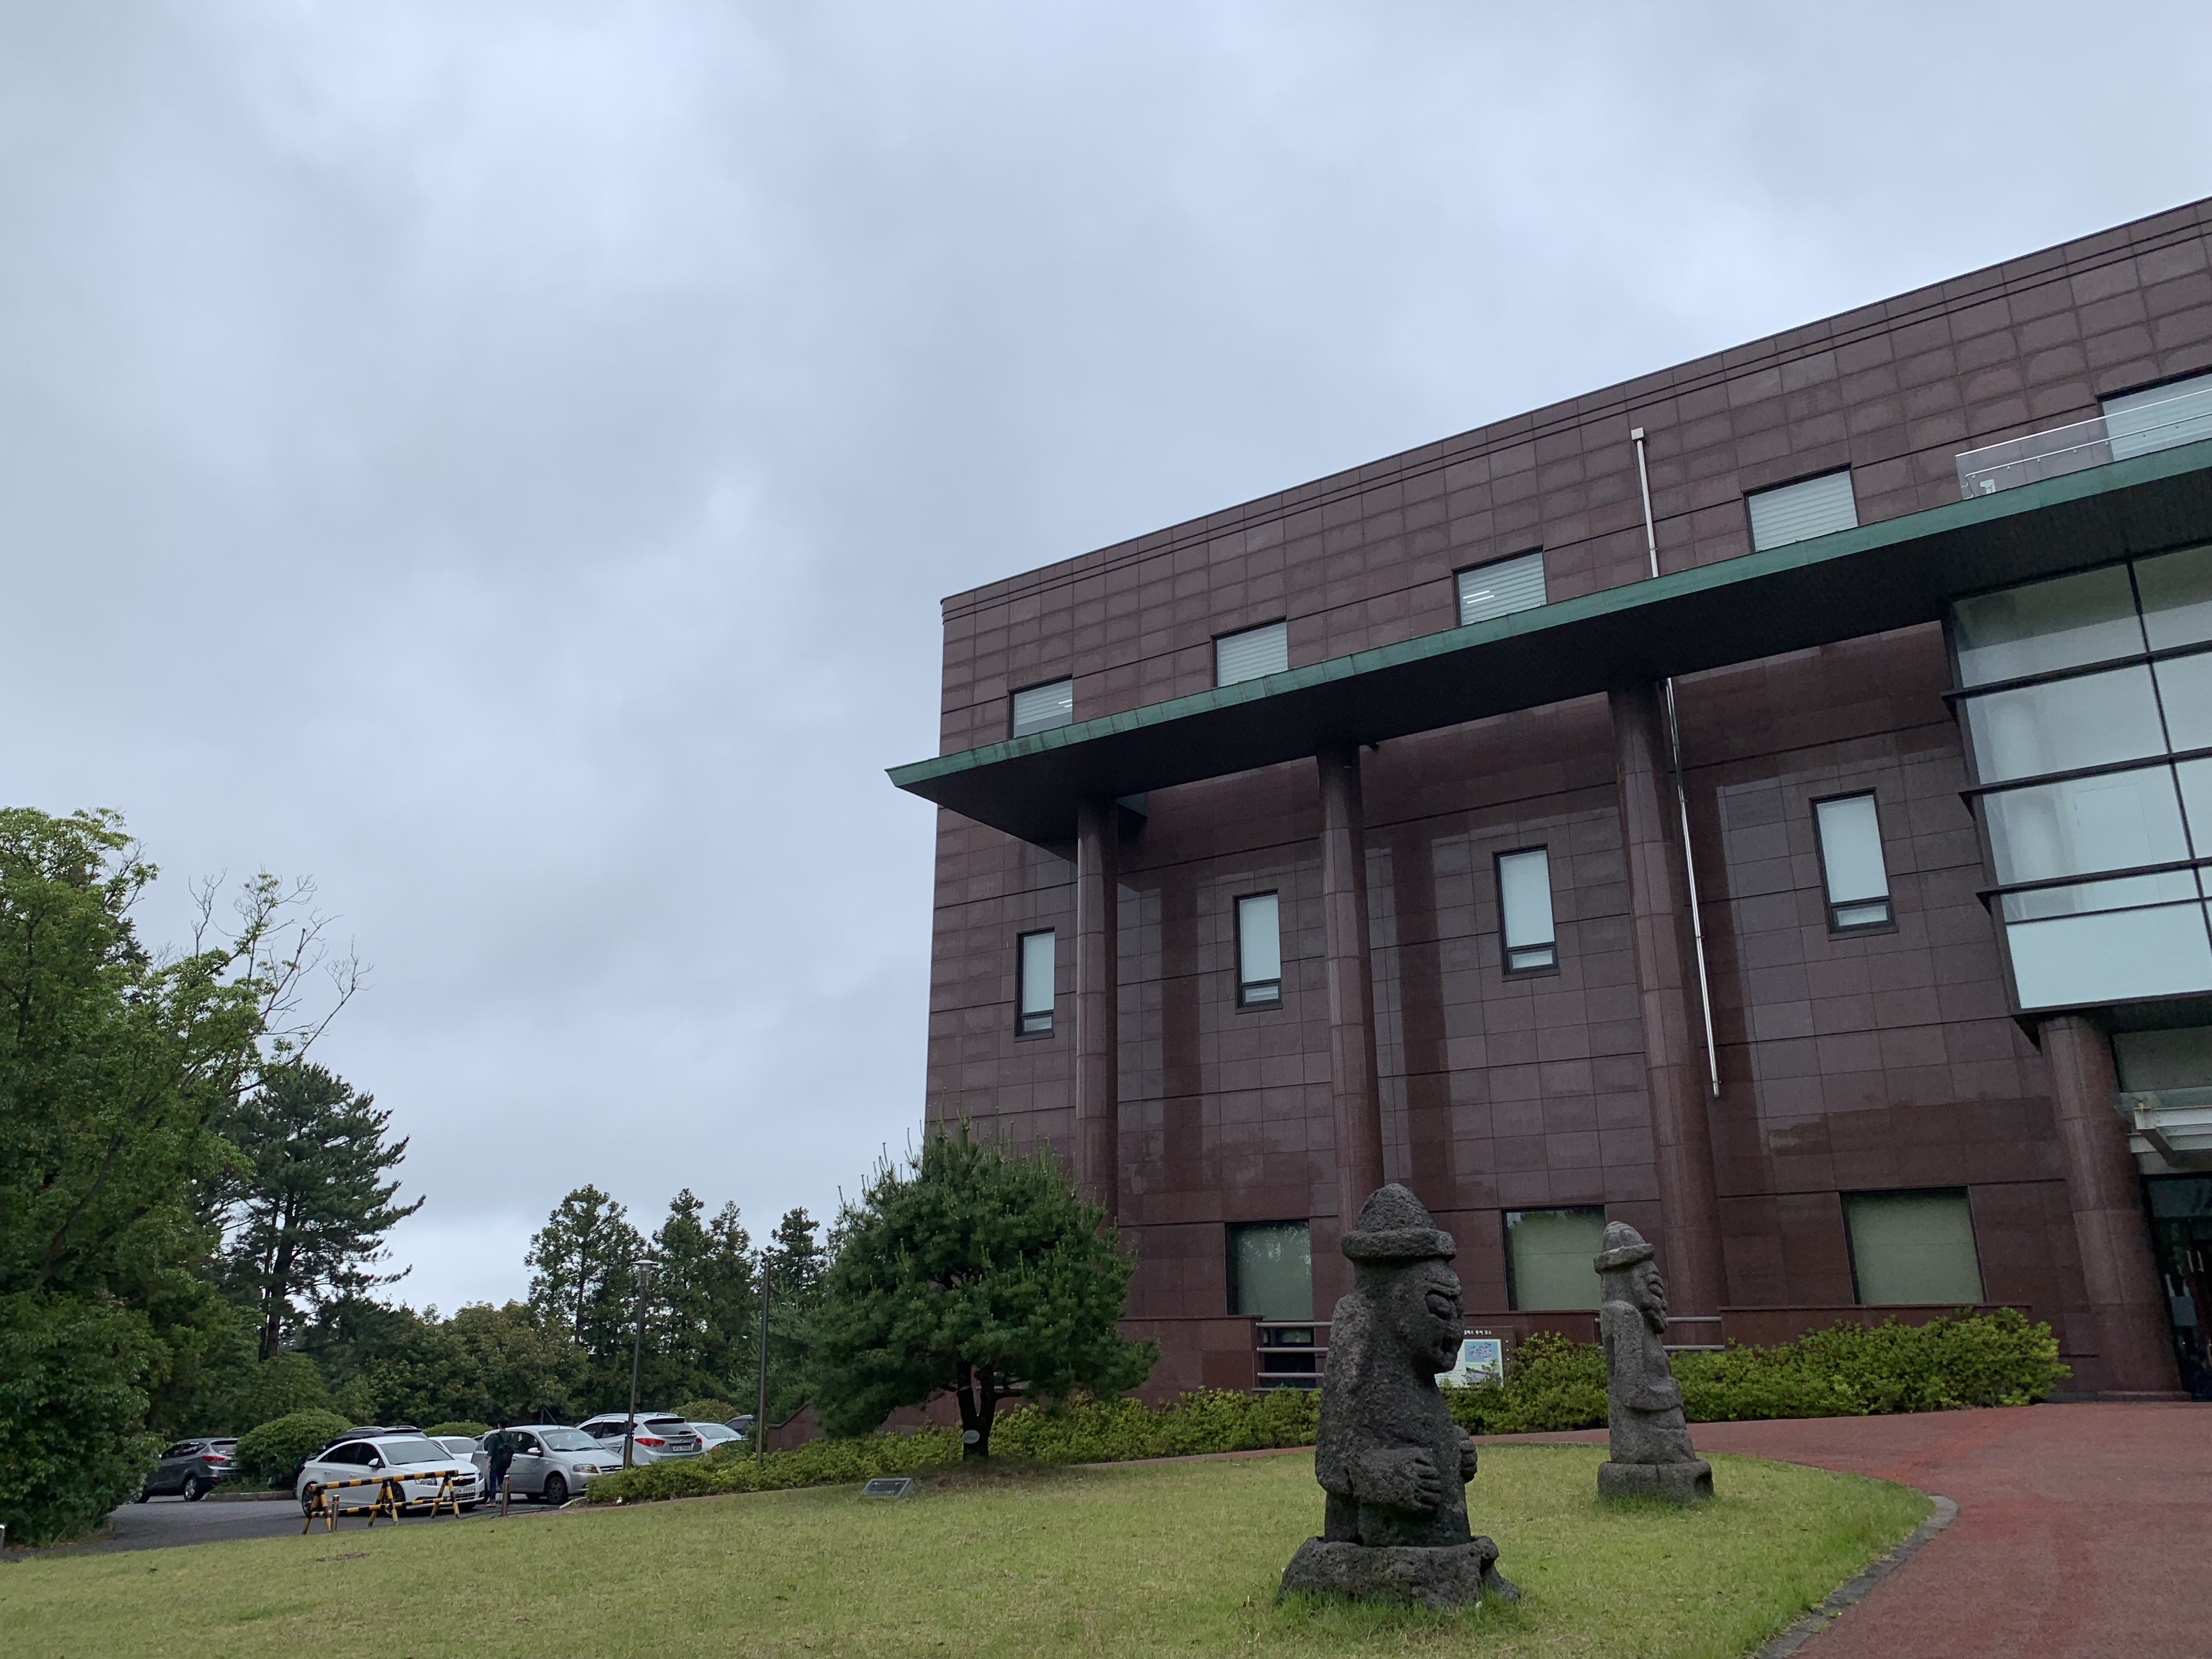Museum: (900, 199, 2212, 1488)
